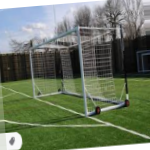goals: (25, 23, 128, 118)
